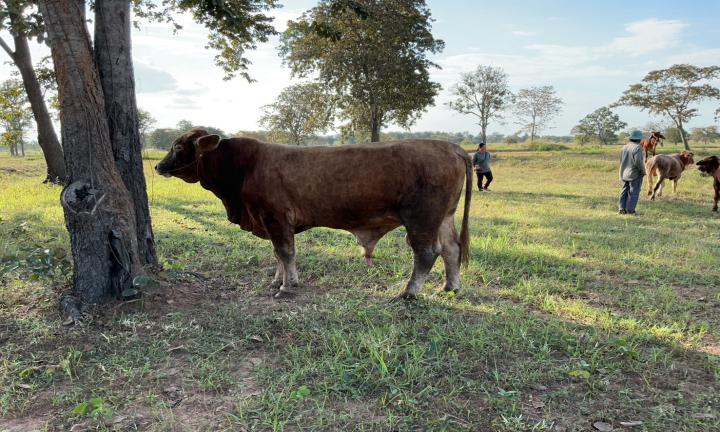Charolais: (156, 128, 472, 299)
